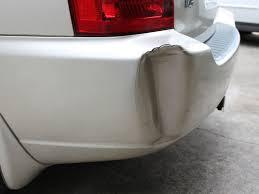dent: (130, 38, 204, 149)
